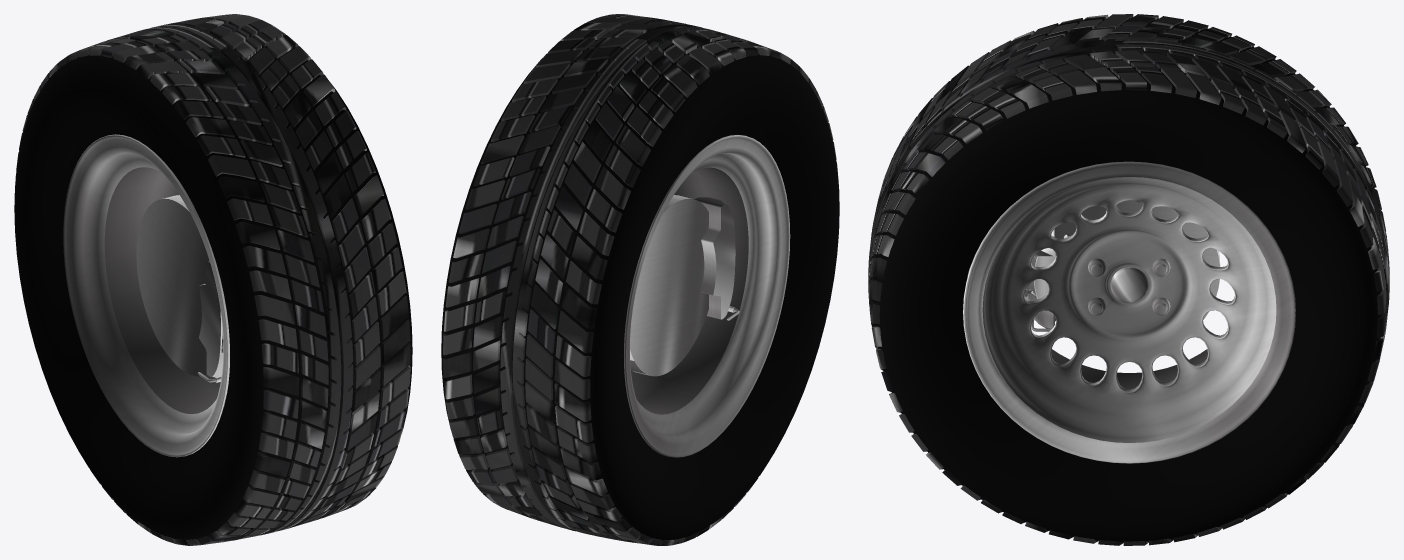
Rendered from LLanta_Trasera_Derecha.obj.
3 renders of one model, left to right at view 1: azimuth 30°, elevation 25°; view 2: azimuth 150°, elevation 25°; view 3: azimuth 270°, elevation 25°, orthographic.
Parts seen in each view (by area): view 1: Object118, Object120, Object116, Object126, Object124; view 2: Object118, Object120, Object116, Object126, Object124; view 3: Object120, Object116, Object118, Object126, Object124, Object128, Object114.
Boxes of the visible parts, x1=… form: Object118: x1=15, y1=14, x2=410, y2=545; Object120: x1=14, y1=28, x2=412, y2=540; Object116: x1=63, y1=134, x2=229, y2=457; Object126: x1=136, y1=195, x2=209, y2=376; Object124: x1=197, y1=261, x2=223, y2=382; Object118: x1=443, y1=14, x2=838, y2=545; Object120: x1=441, y1=31, x2=839, y2=540; Object116: x1=624, y1=135, x2=790, y2=457; Object126: x1=630, y1=195, x2=708, y2=376; Object124: x1=694, y1=197, x2=739, y2=320; Object120: x1=873, y1=18, x2=1382, y2=542; Object116: x1=963, y1=161, x2=1295, y2=463; Object118: x1=868, y1=14, x2=1389, y2=545; Object126: x1=1055, y1=200, x2=1220, y2=321; Object124: x1=1024, y1=229, x2=1069, y2=331; Object128: x1=1110, y1=267, x2=1148, y2=302; Object114: x1=1088, y1=258, x2=1170, y2=315.
Size of the model in its own units: 20.81 by 57.67 by 57.66.
Materials: 4 (2 with a texture image).
